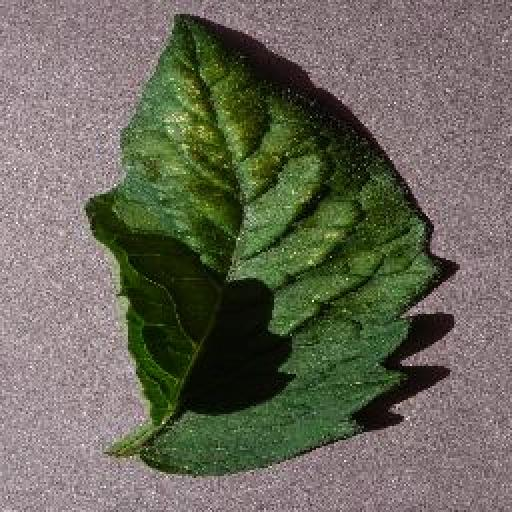disease_tomato: (85, 13, 439, 479)
